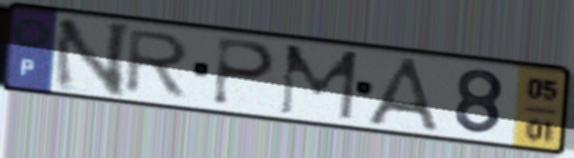8: (452, 67, 507, 136)
A: (362, 55, 448, 137)
M: (275, 42, 362, 124)
N: (50, 17, 136, 99)
P: (209, 34, 280, 110)
R: (119, 27, 195, 101)
